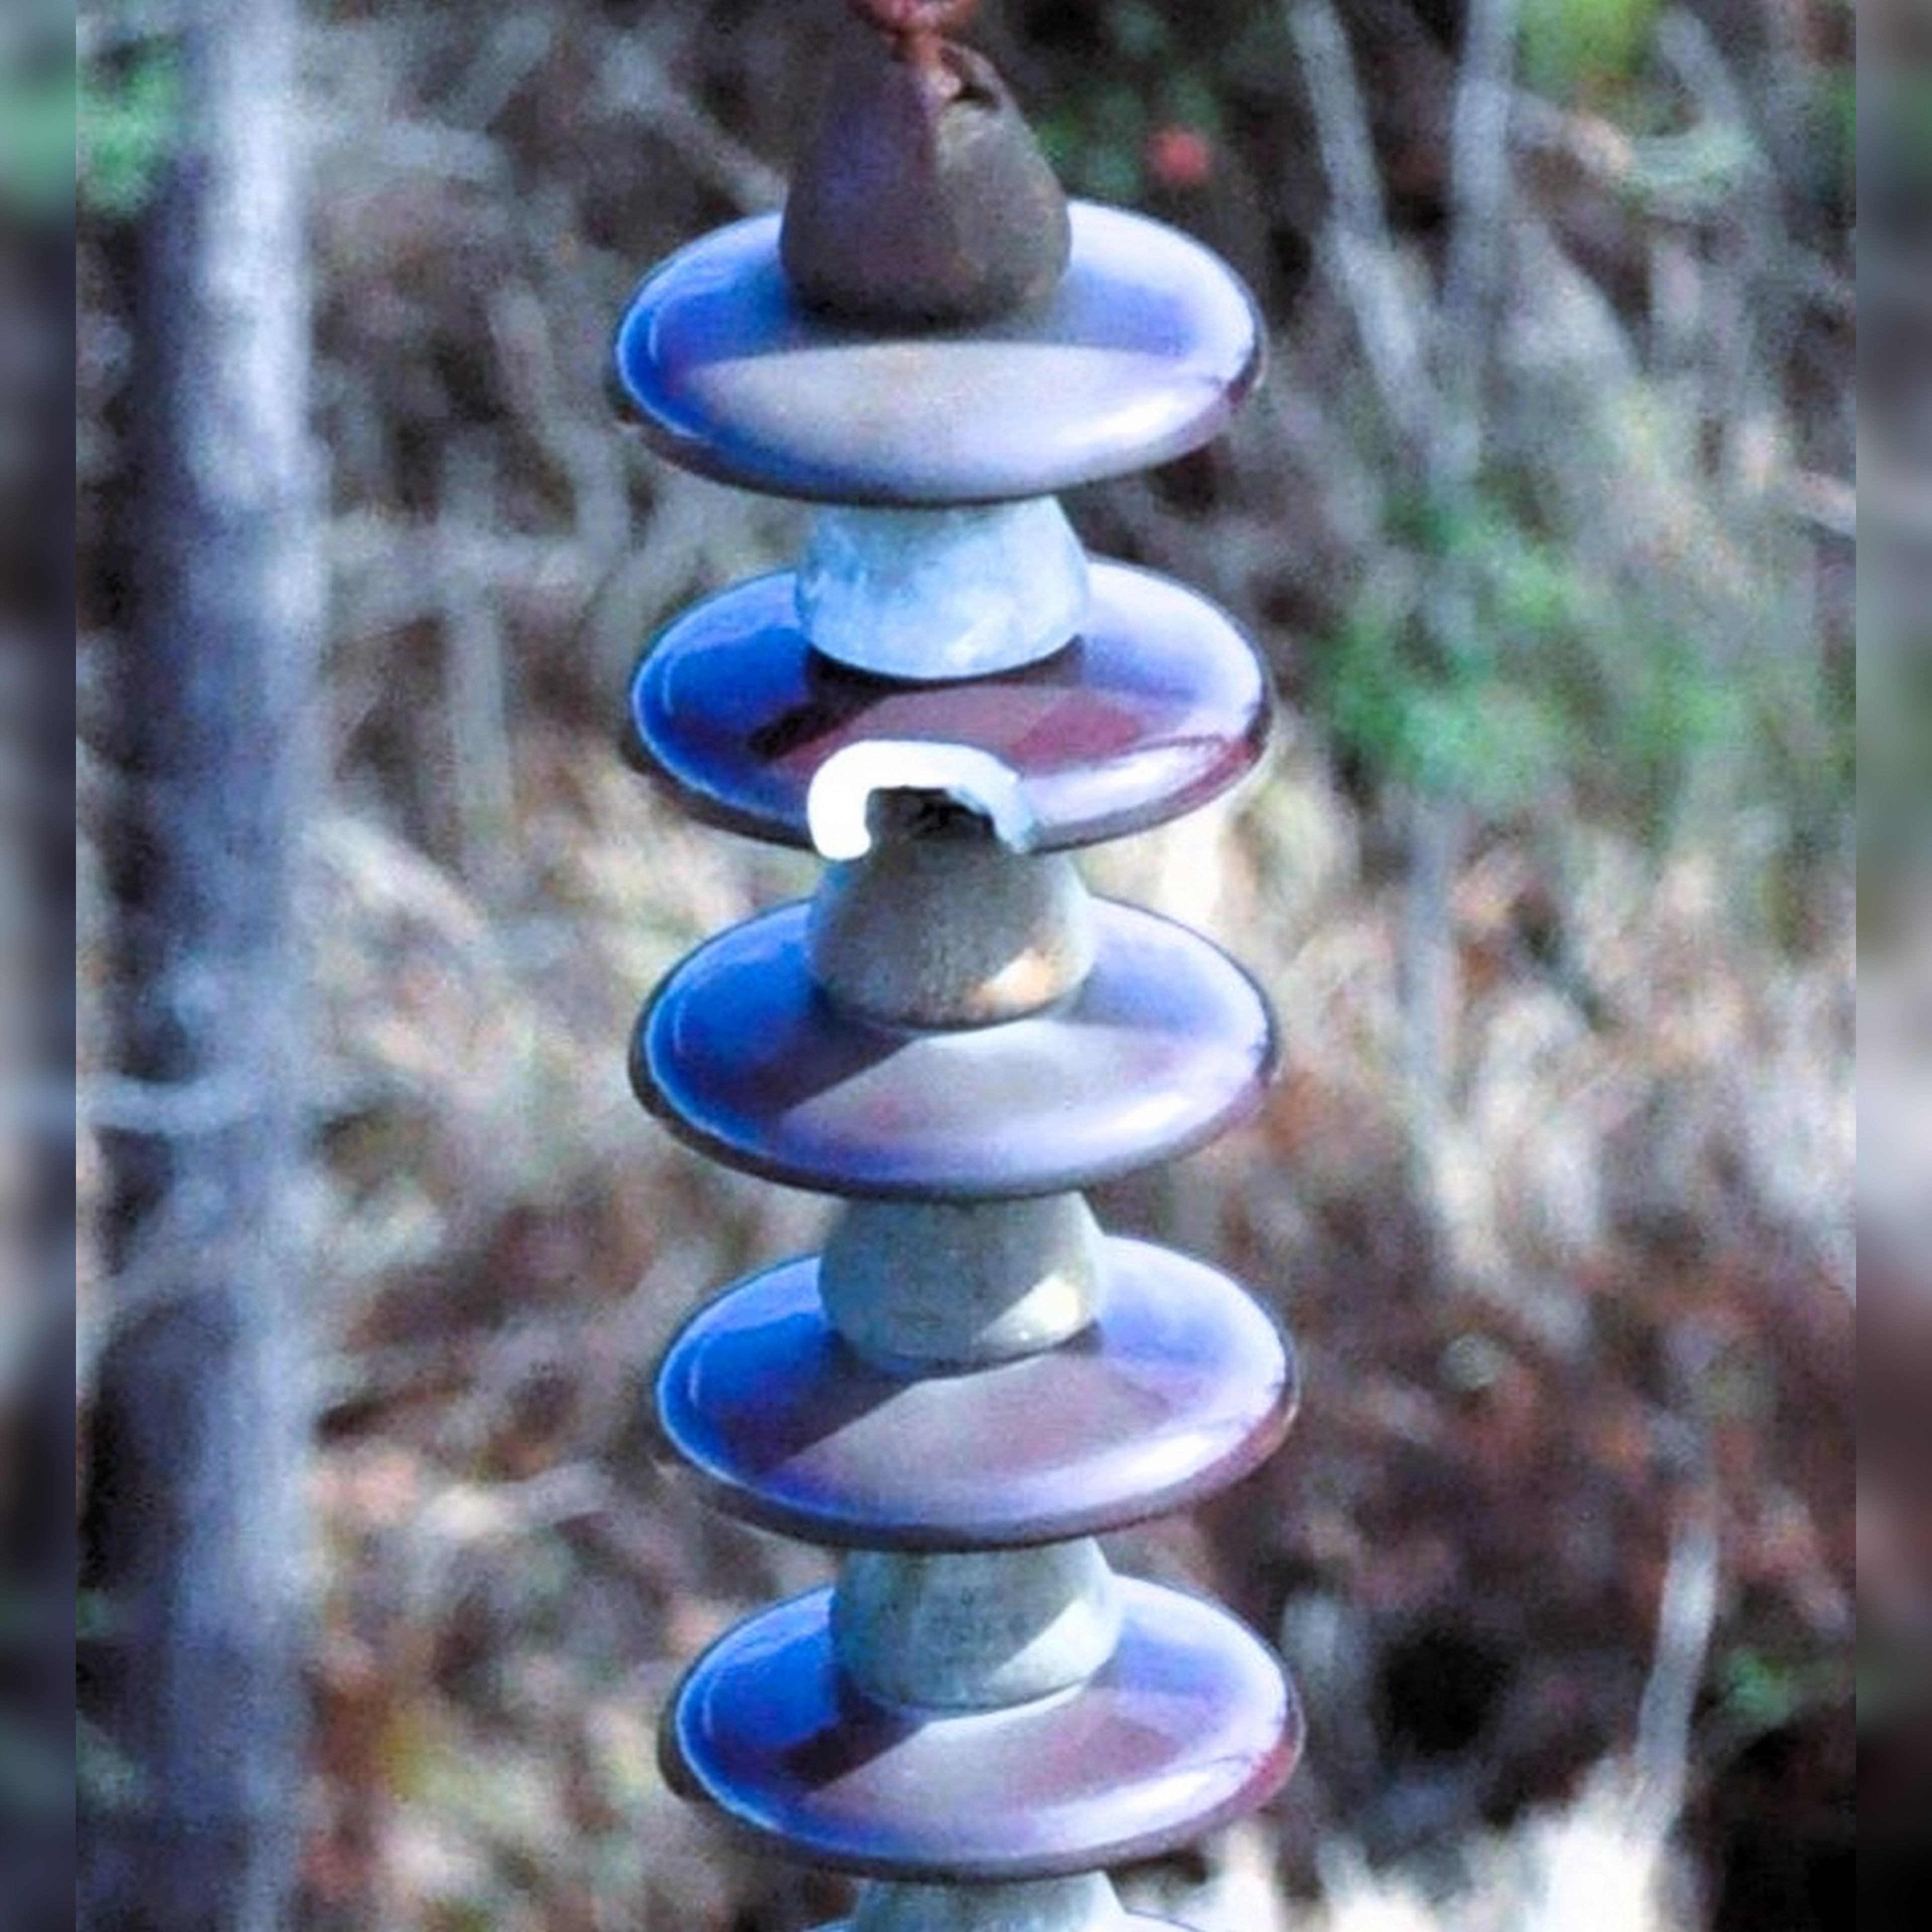insulator breakage: (625, 552, 1279, 895)
